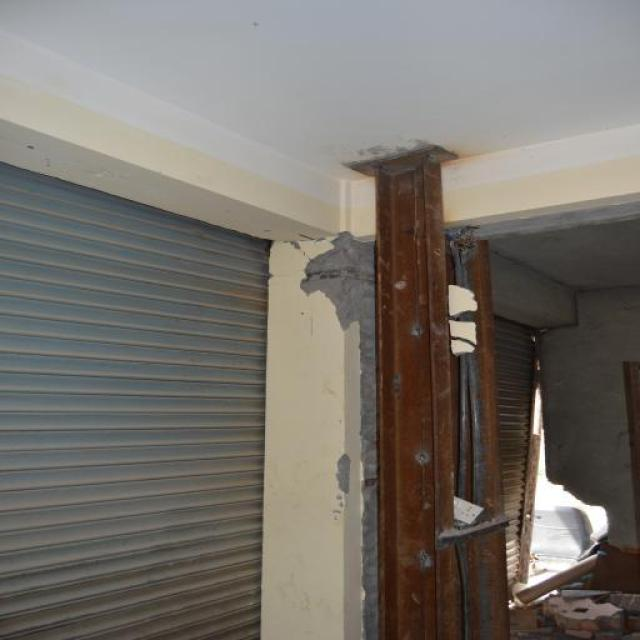D10: (300, 232, 378, 639), (336, 454, 351, 494)
